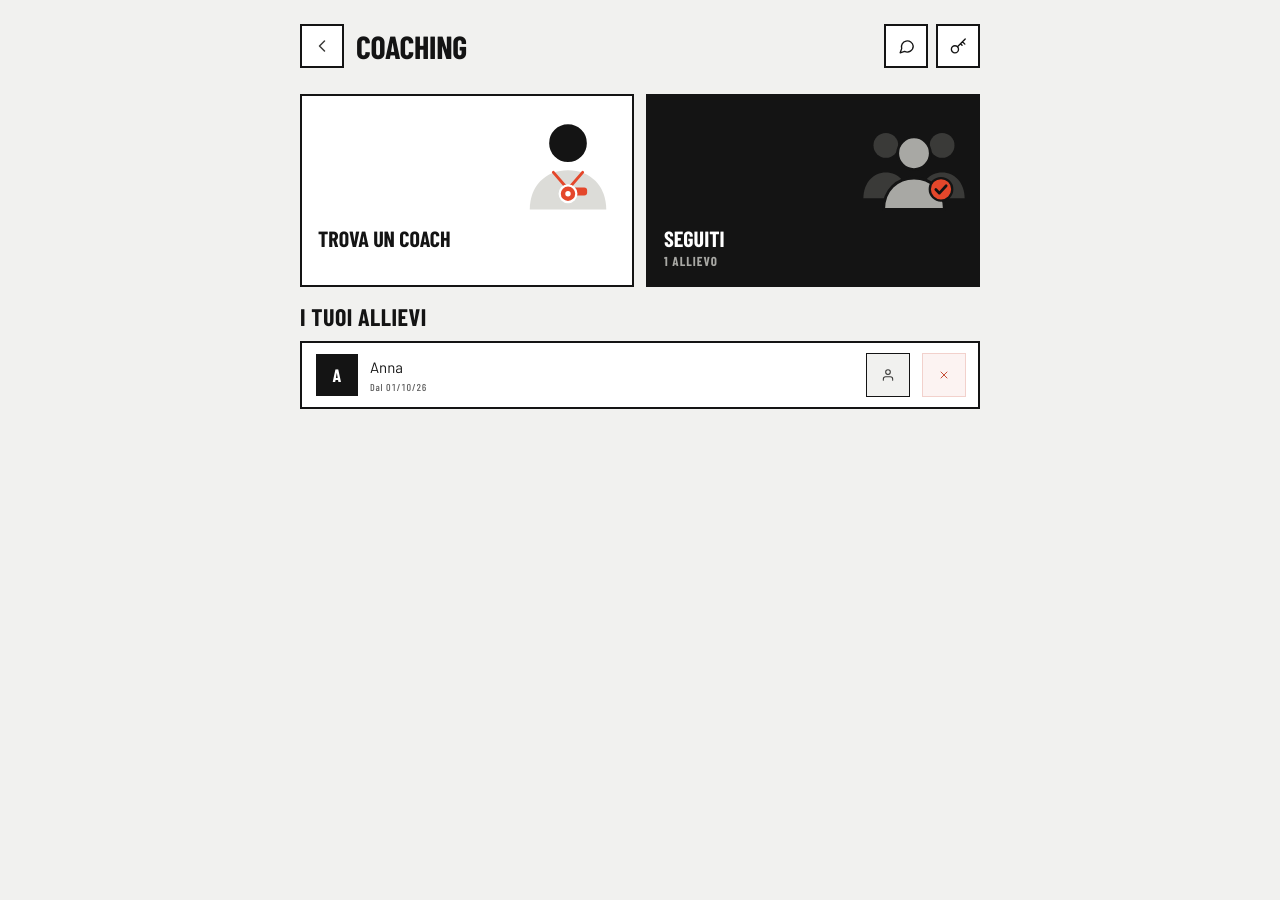
it: il numero nella pagina dell’allievo › ritoccare una scheda che l’allievo ha tolto non la rimette in piedi
Click the button "A Anna Dal 01/10/26".
click(372, 375)  # box [316,354,427,396]
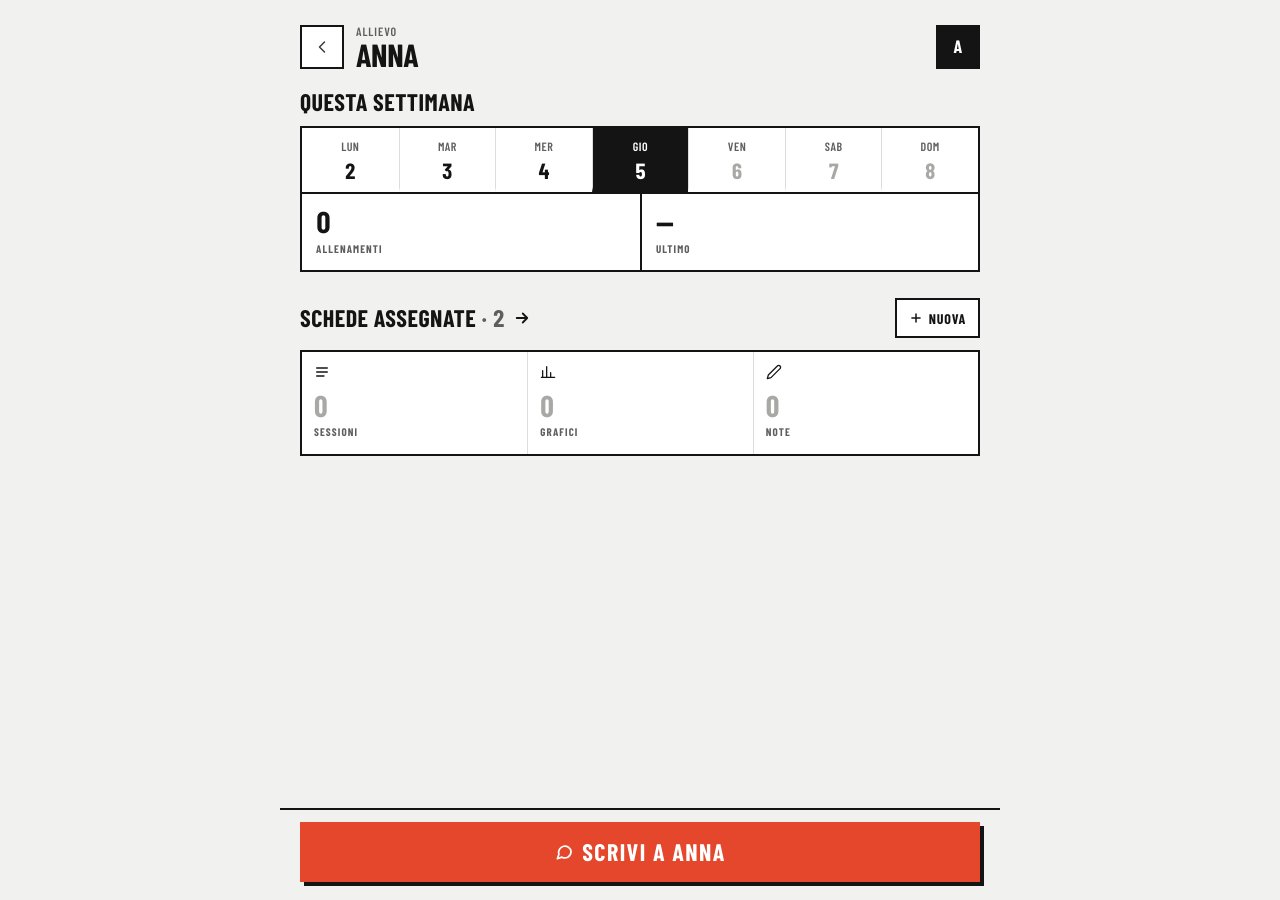
Click the button "Schede assegnate · 2".
click(416, 318)  # box [300,298,531,338]
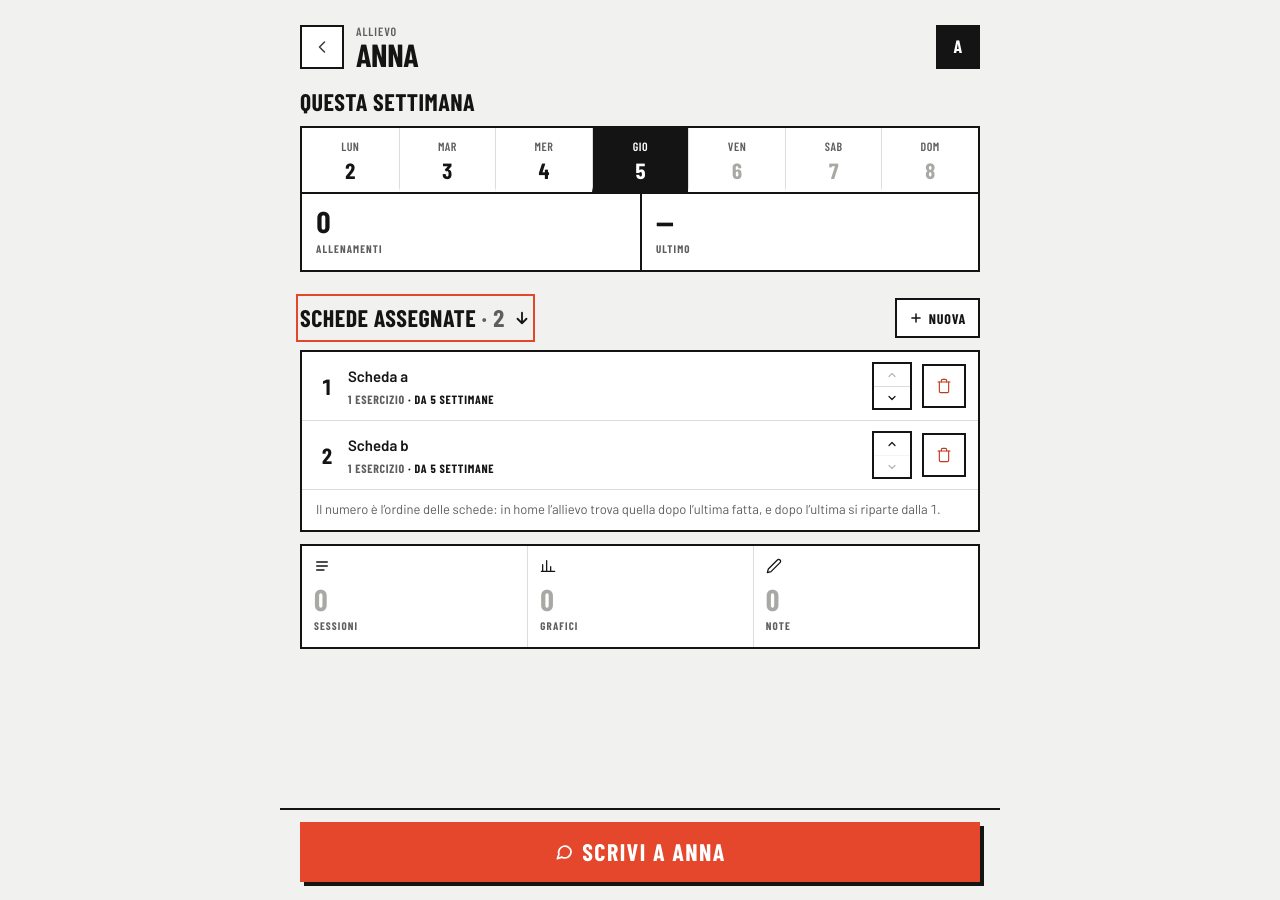
Click the text "Scheda a".
click(378, 376)  # box [348,364,408,387]
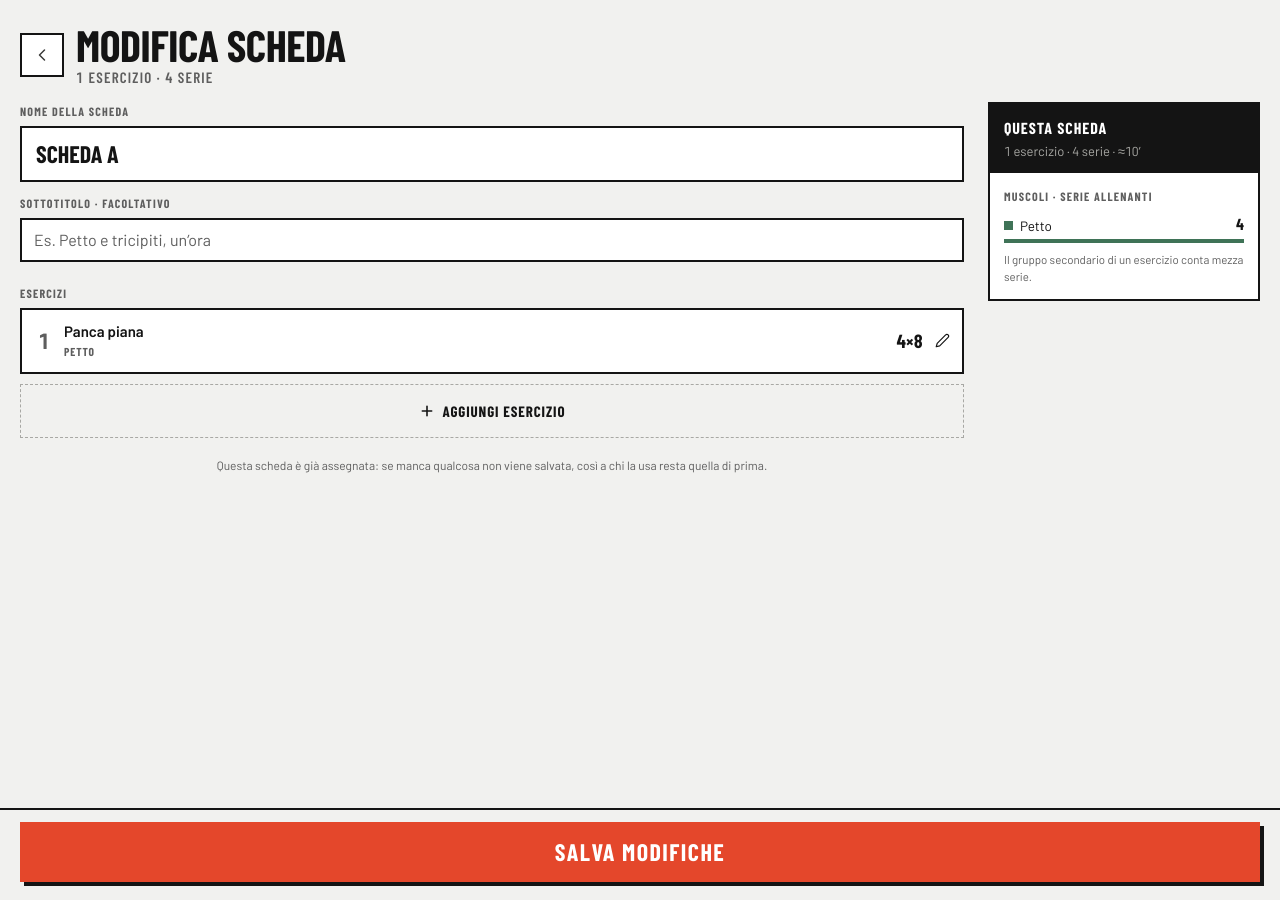
Click the button "Salva modifiche".
click(640, 852)  # box [20,822,1260,882]
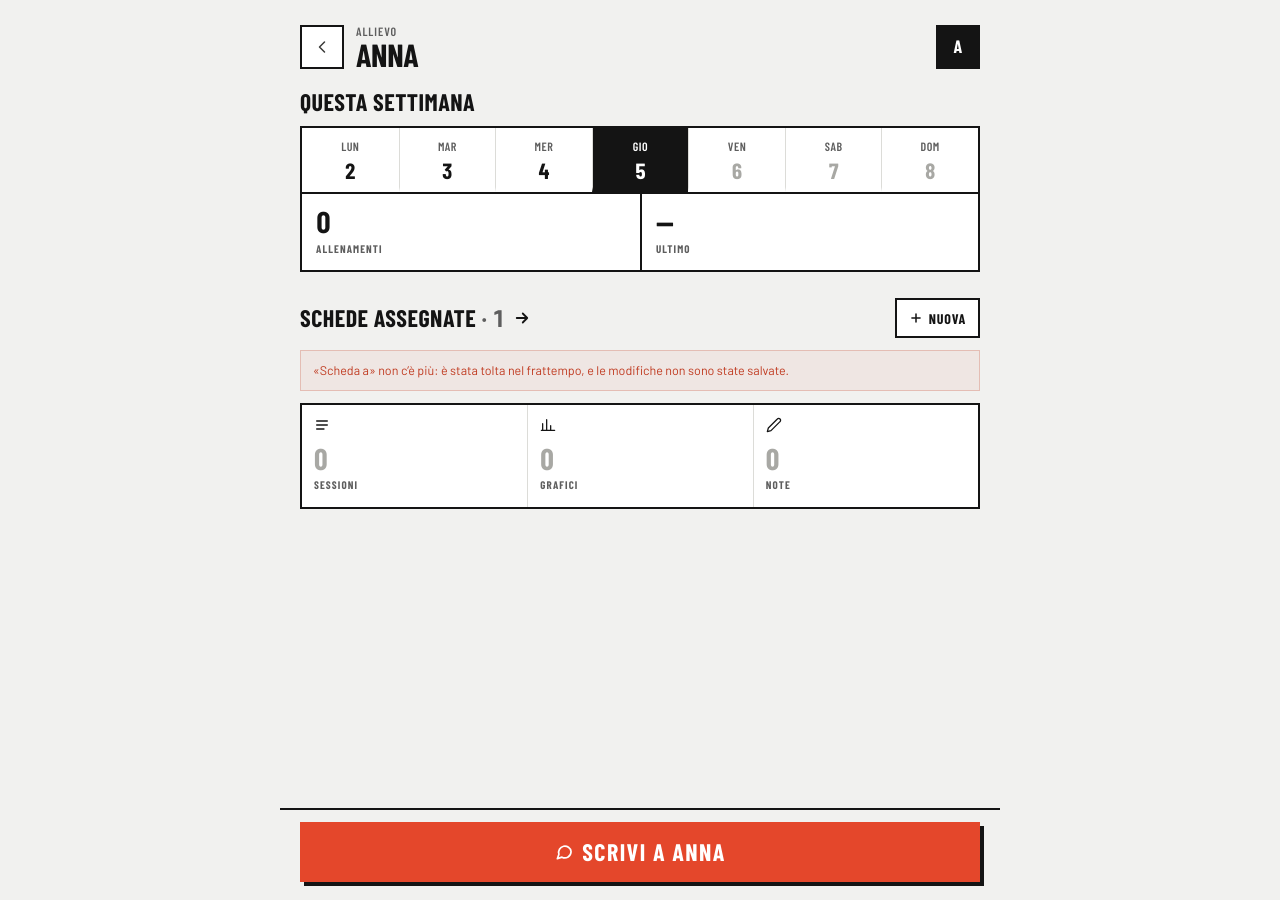
Result: the text "«Scheda a» non c’è più: è stata tolta nel frattempo, e le modifiche non sono state salvate." is shown at [313,362,789,378]
Result: the button "Schede assegnate · 1" is shown at [300,298,531,338]
